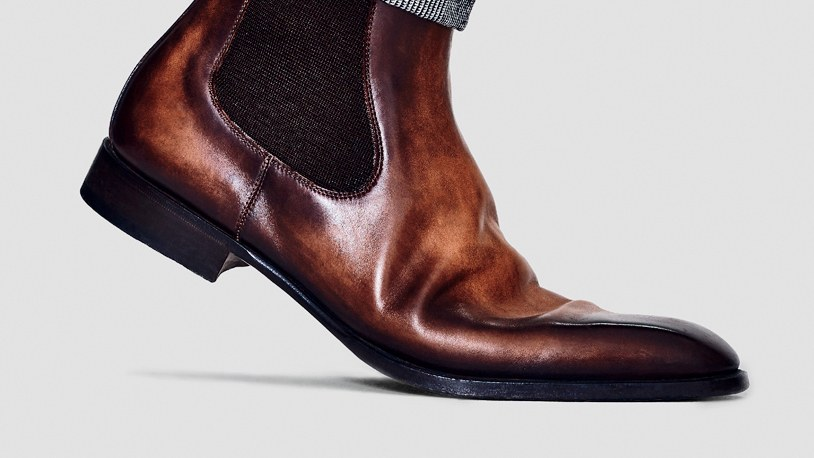shoe: (59, 1, 762, 419)
